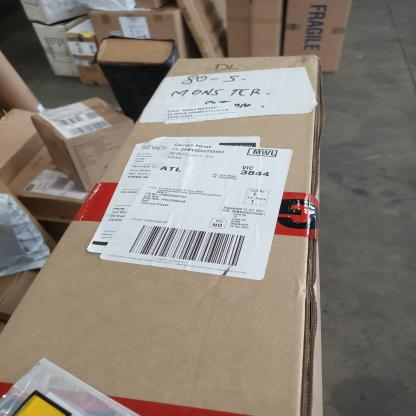label: (99, 139, 294, 280), (41, 103, 116, 141), (121, 16, 151, 39), (69, 41, 98, 58)
package: (0, 54, 323, 416), (32, 98, 132, 194), (95, 36, 178, 124), (95, 2, 201, 58), (284, 0, 351, 72), (0, 106, 54, 195), (35, 11, 89, 77), (224, 0, 284, 59), (176, 0, 227, 59), (19, 0, 89, 25)
